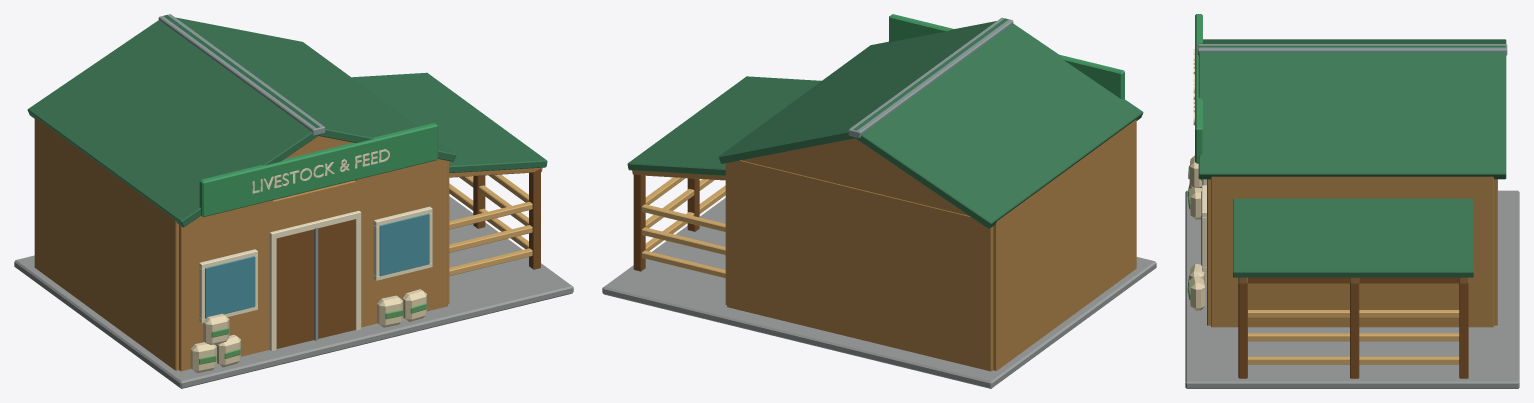
The model's file is LivestockMarket.glb.
3 views of the same model, side by side, from view 1: azimuth 30°, elevation 25°; view 2: azimuth 150°, elevation 25°; view 3: azimuth 270°, elevation 25° (orthographic).
Parts seen in each view (by area): view 1: LivestockAndFeedMarket_StaticMesh; view 2: LivestockAndFeedMarket_StaticMesh; view 3: LivestockAndFeedMarket_StaticMesh.
Boxes of the visible parts, left/top/right/bottom form: LivestockAndFeedMarket_StaticMesh: left=14, top=14, right=573, bottom=388; LivestockAndFeedMarket_StaticMesh: left=602, top=14, right=1156, bottom=388; LivestockAndFeedMarket_StaticMesh: left=1185, top=14, right=1519, bottom=388.
Size of the model in its own units: 10.6 by 5.72 by 7.8.
